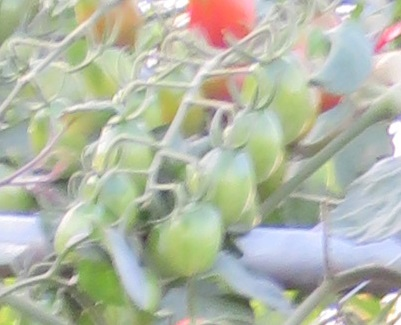green: (251, 55, 318, 142), (193, 141, 260, 223), (150, 206, 222, 278), (232, 105, 283, 183), (50, 204, 111, 263), (92, 124, 152, 168), (88, 168, 132, 213), (1, 185, 35, 216)
red: (185, 3, 259, 38)
